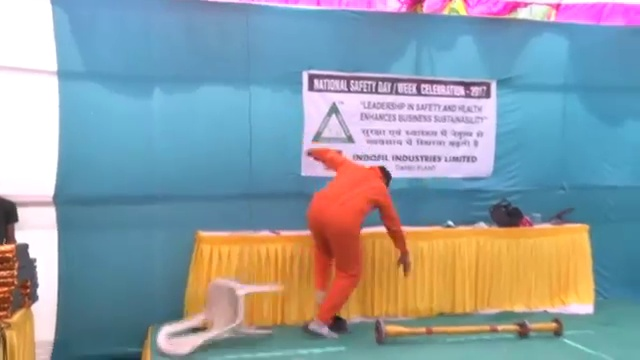helmet_off: (367, 159, 393, 186)
person: (303, 148, 416, 341)
